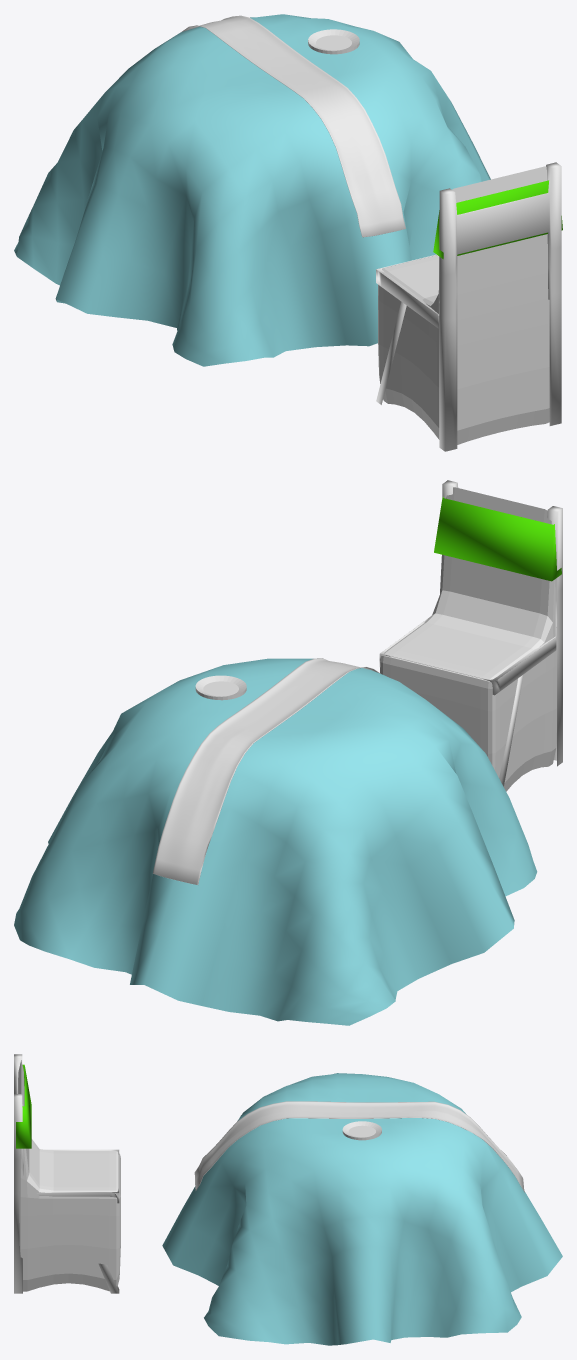
Rendered from PFScene10.gltf.
The picture shows the model from 3 angles, top to bottom: view 1: azimuth 30°, elevation 25°; view 2: azimuth 150°, elevation 25°; view 3: azimuth 270°, elevation 25°; orthographic projection. The views are drawn at different scales.
Visible parts, largest first — view 1: TableCloth, Chair.001, BasicChair, TableRunner, ChairRunner, Plate; view 2: TableCloth, Chair.001, TableRunner, ChairRunner, BasicChair, Plate; view 3: TableCloth, Chair.001, TableRunner, BasicChair, ChairRunner, Plate.
Part boxes in pixels (box(x1,y1,x2,y2)): TableCloth: box(14, 14, 490, 366); Chair.001: box(378, 166, 549, 444); BasicChair: box(376, 162, 561, 451); TableRunner: box(182, 15, 405, 237); ChairRunner: box(433, 180, 562, 259); Plate: box(308, 29, 359, 54); TableCloth: box(14, 658, 537, 1025); Chair.001: box(380, 487, 556, 791); TableRunner: box(152, 658, 380, 884); ChairRunner: box(434, 497, 561, 581); BasicChair: box(379, 480, 562, 786); Plate: box(195, 675, 246, 700); TableCloth: box(162, 1073, 562, 1345); Chair.001: box(18, 1060, 120, 1291); TableRunner: box(194, 1101, 524, 1192); BasicChair: box(14, 1054, 119, 1293); ChairRunner: box(16, 1064, 31, 1148); Plate: box(342, 1121, 381, 1140).
Size of the model in its own units: 152 by 90.34 by 209.
